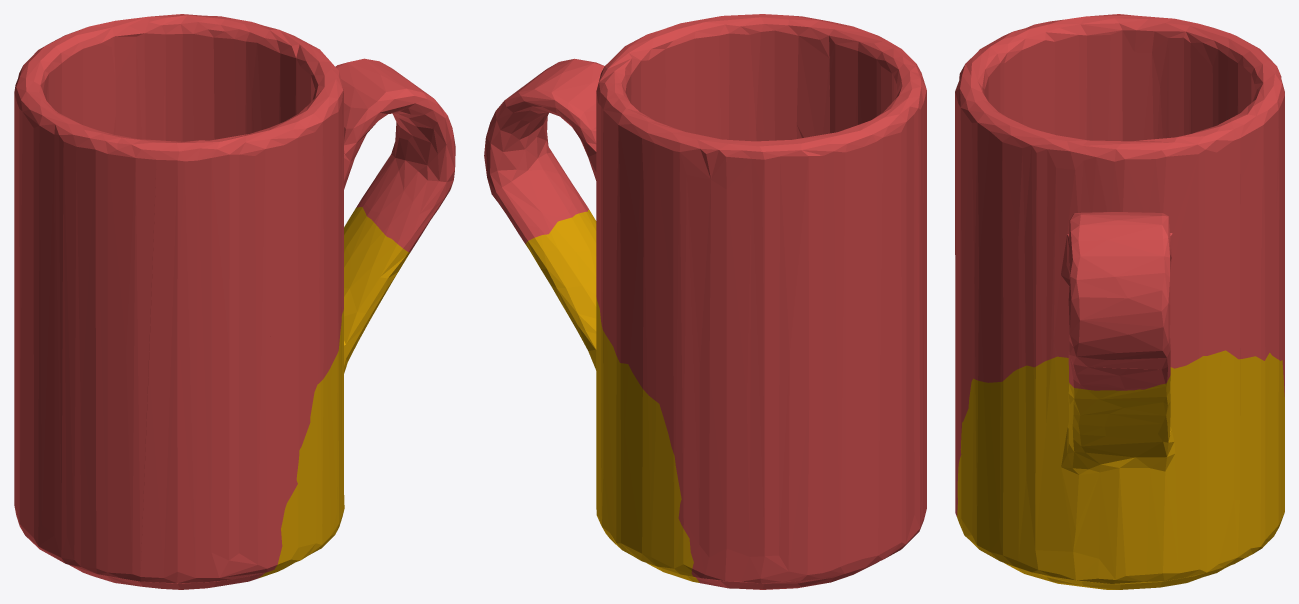
The model's file is fractured_38_2pcs.glb.
The picture shows the model from 3 angles, left to right: view 1: azimuth 30°, elevation 25°; view 2: azimuth 150°, elevation 25°; view 3: azimuth 270°, elevation 25°; orthographic projection.
Visible parts, largest first — view 1: piece_1.obj, piece_0.obj; view 2: piece_1.obj, piece_0.obj; view 3: piece_1.obj, piece_0.obj.
Boxes of the visible parts, x1,y1,x2,y2 form: piece_1.obj: (14,14,455,589); piece_0.obj: (258,207,410,578); piece_1.obj: (484,14,926,589); piece_0.obj: (525,210,699,582); piece_1.obj: (955,14,1284,516); piece_0.obj: (957,350,1284,589).
Size of the model in its own units: 0.9165 by 1 by 0.6557.
